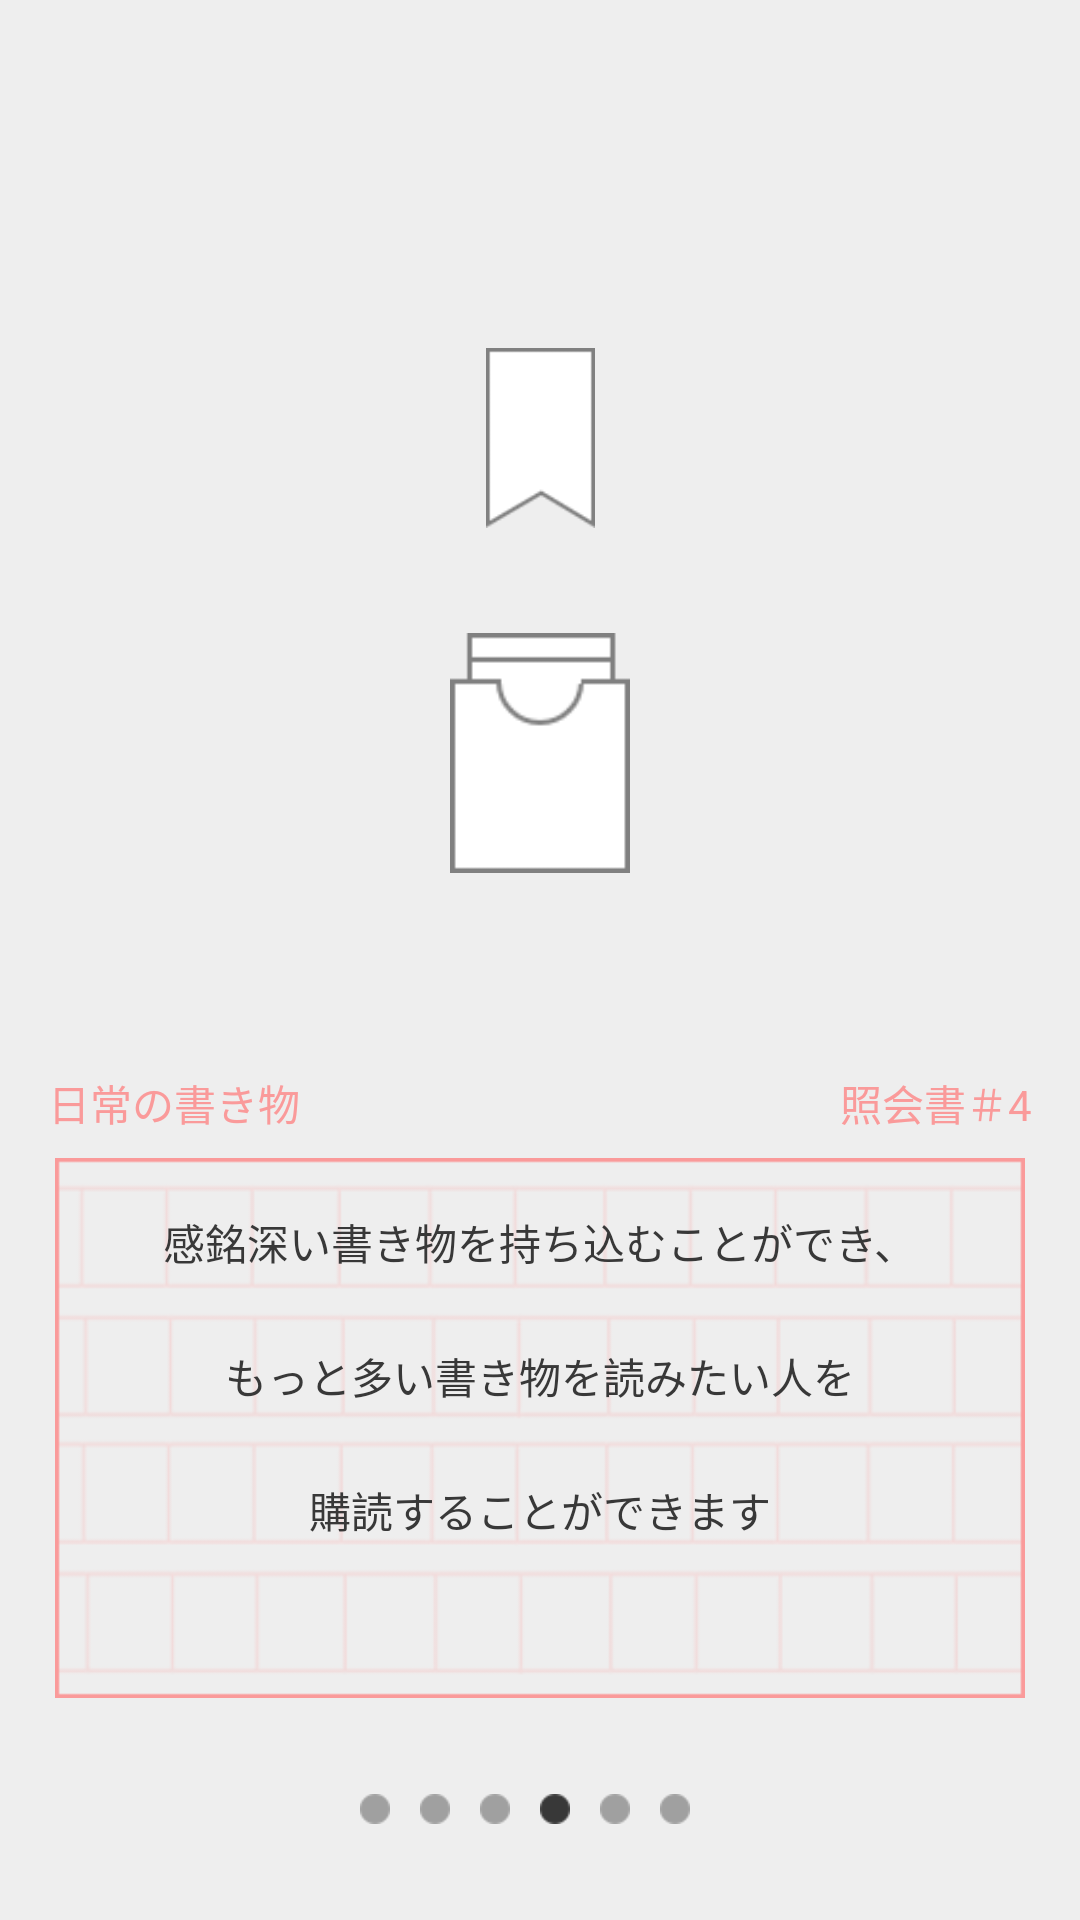

Named icons in this screenshot (1080×1920) and their centers, point (x, y):
file: point (540, 753)
